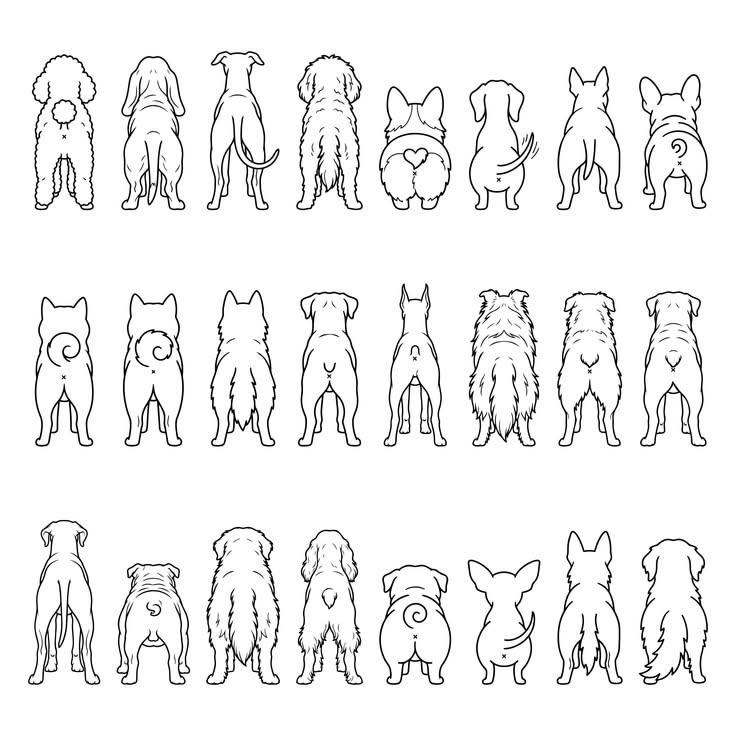adult_dog: (25, 517, 103, 688), (203, 523, 283, 688), (466, 286, 543, 450), (205, 48, 281, 214), (207, 287, 280, 450), (637, 288, 710, 450), (293, 526, 366, 688), (381, 280, 450, 450), (294, 51, 365, 214), (554, 288, 625, 450), (636, 535, 711, 688), (554, 527, 625, 688), (295, 287, 364, 450), (119, 54, 188, 214), (31, 52, 99, 213), (636, 71, 711, 214), (554, 63, 625, 214), (120, 290, 186, 450), (464, 556, 543, 688), (31, 293, 97, 450), (466, 76, 541, 214), (376, 83, 454, 214), (114, 560, 192, 688), (376, 562, 454, 688)
